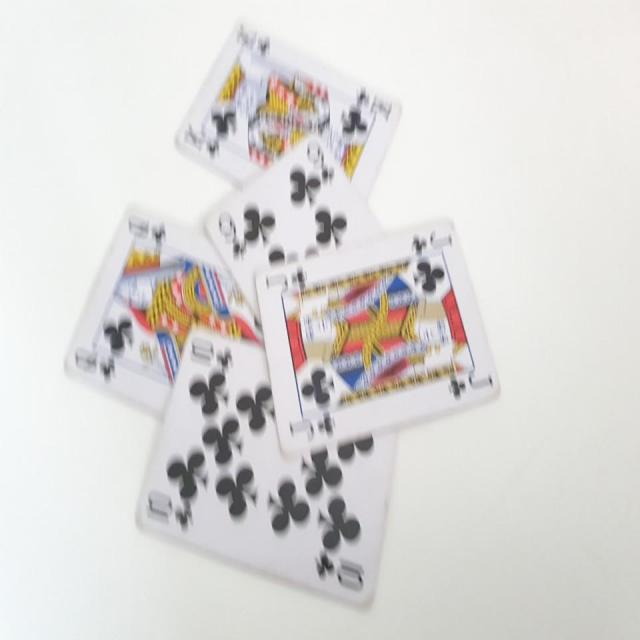10 Trefoils: (134, 324, 395, 602)
9 Trefoils: (200, 130, 389, 333)
J Trefoils: (254, 218, 503, 461)
K Trefoils: (171, 18, 402, 202)
Q Trefoils: (62, 195, 262, 416)
